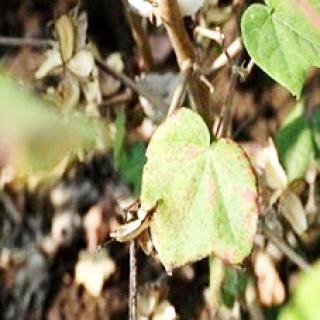leaf spot: (154, 107, 253, 259)
